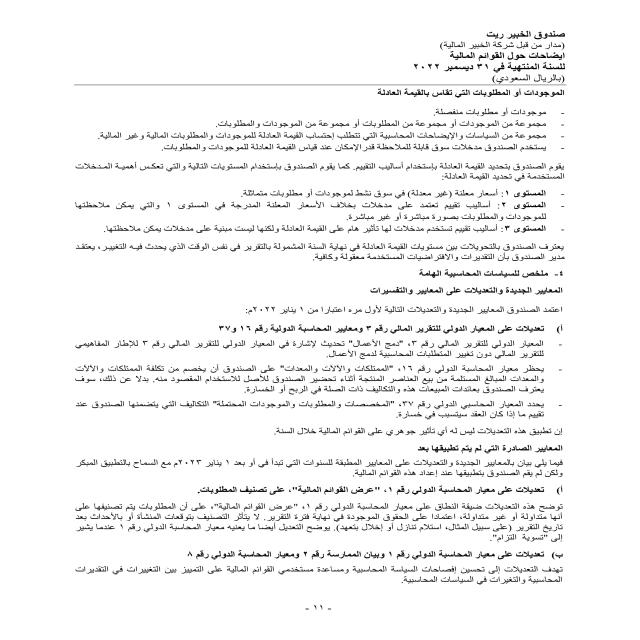notes: (444, 51, 574, 62)
text: (32, 87, 566, 595)
